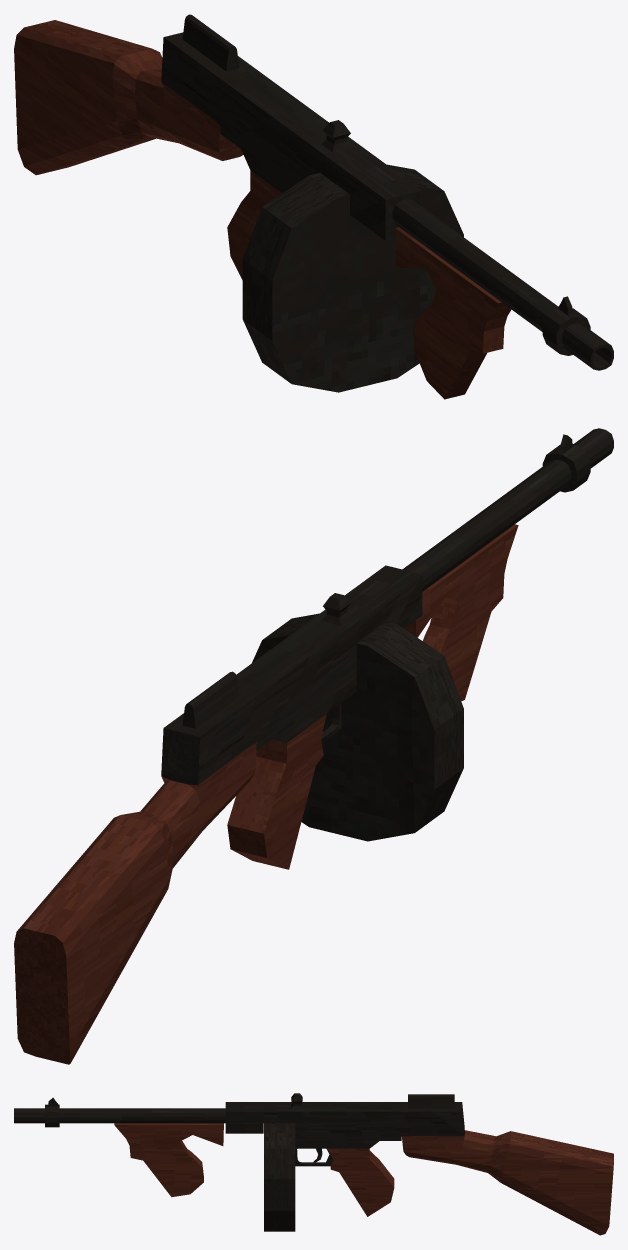
Rendered from Tommy.glb.
The picture shows the model from 3 angles, top to bottom: view 1: azimuth 30°, elevation 25°; view 2: azimuth 150°, elevation 25°; view 3: azimuth 270°, elevation 25°; orthographic projection. The views are drawn at different scales.
Visible parts, largest first — view 1: Cube, Cube.002, Cube.003; view 2: Cube, Cube.002, Cube.003; view 3: Cube, Cube.003, Cube.002, Cube.001.
Boxes of the visible parts, bbox=[...] form: Cube: bbox=[14, 14, 613, 370]; Cube.002: bbox=[242, 164, 463, 392]; Cube.003: bbox=[395, 227, 511, 399]; Cube: bbox=[14, 428, 613, 1064]; Cube.002: bbox=[252, 613, 463, 841]; Cube.003: bbox=[404, 524, 518, 701]; Cube: bbox=[14, 1093, 613, 1235]; Cube.003: bbox=[114, 1123, 223, 1197]; Cube.002: bbox=[264, 1123, 295, 1231]; Cube.001: bbox=[295, 1148, 332, 1166].
Size of the model in its own units: 2.67 by 3.42 by 13.57.
Materials: 2 (2 with a texture image).
